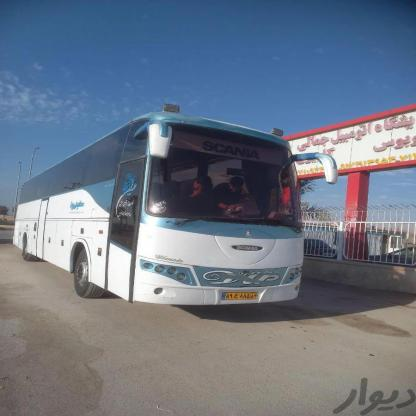Bus: (0, 100, 324, 324)
